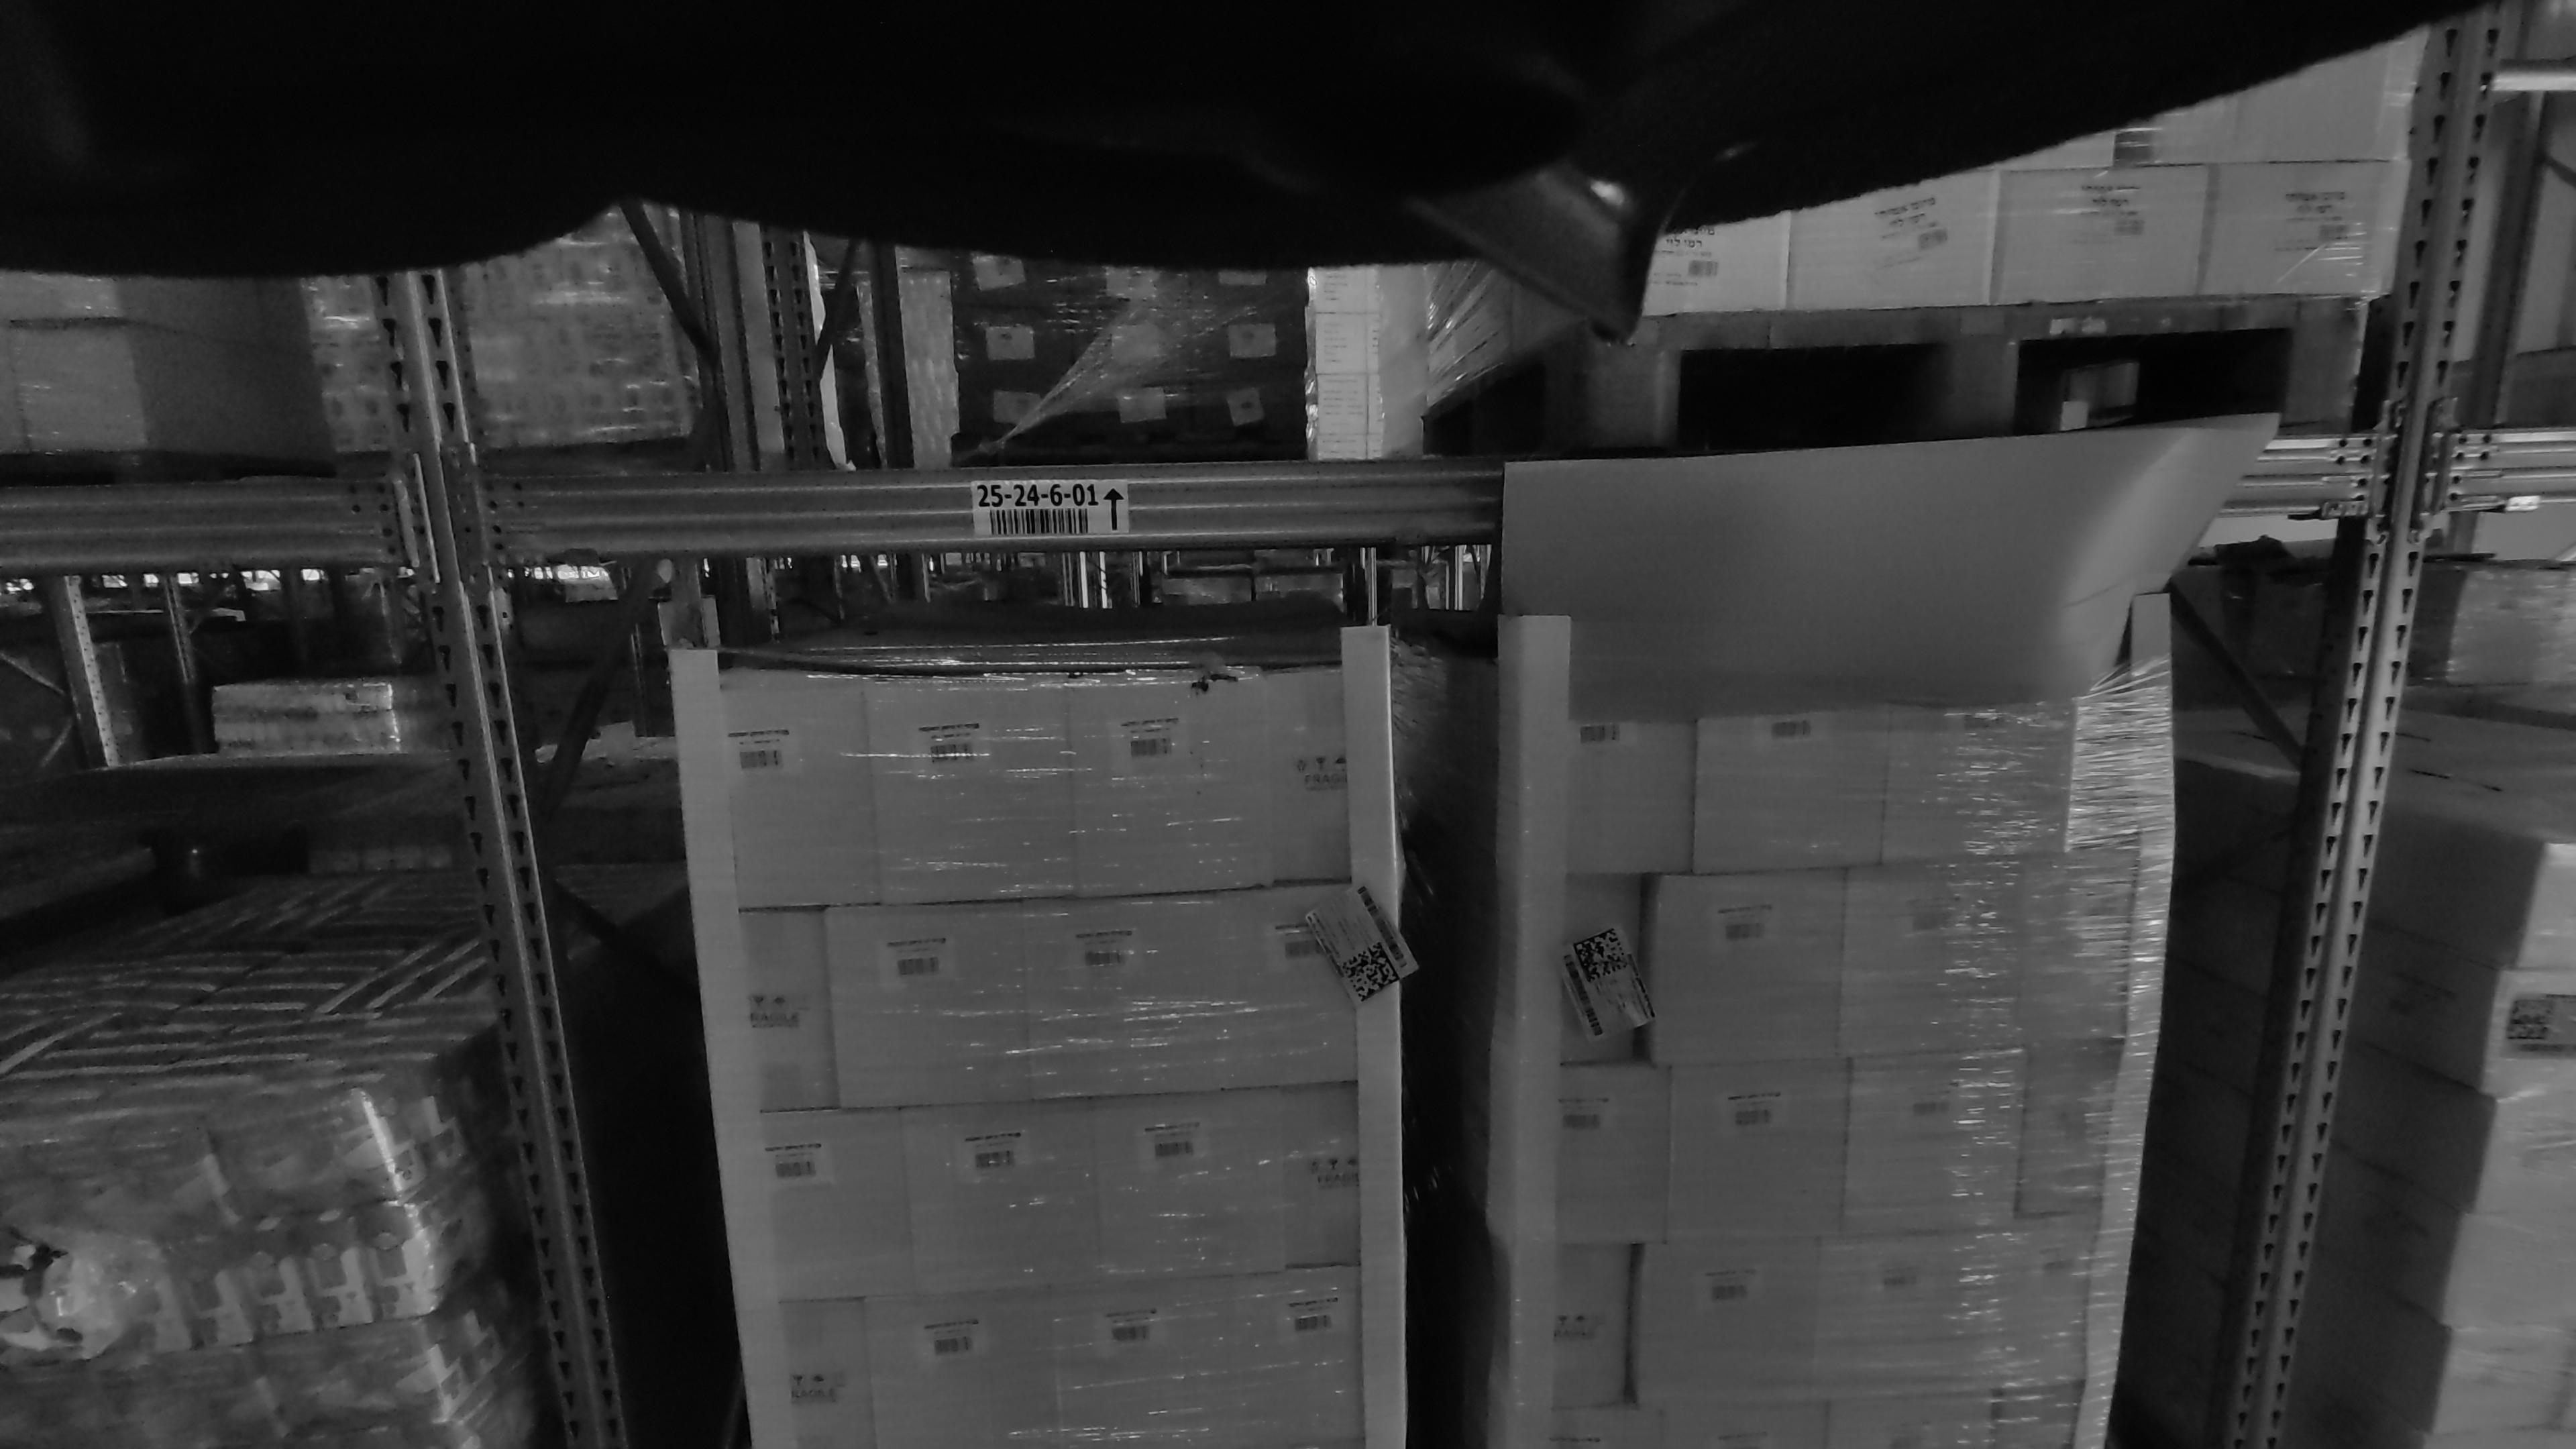empty-shelf: (617, 195, 1433, 458)
